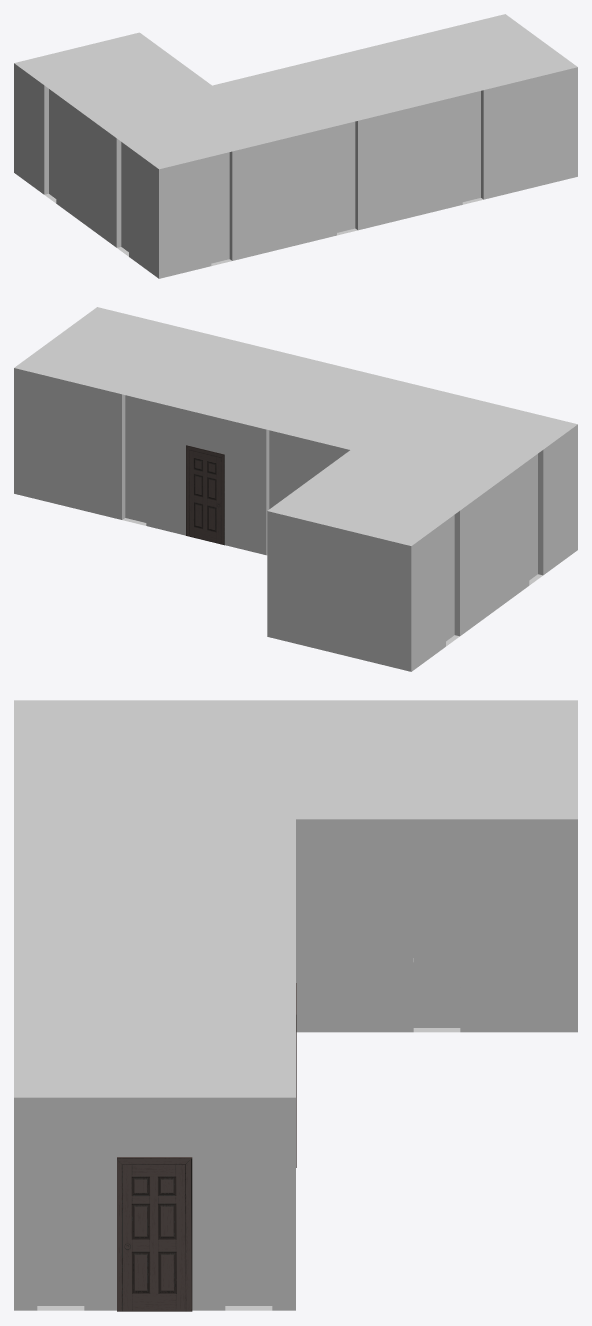
The model's file is Corridor-Room.fbx.
3 renders of one model, top to bottom at view 1: azimuth 30°, elevation 25°; view 2: azimuth 150°, elevation 25°; view 3: azimuth 270°, elevation 25°, orthographic. The views are drawn at different scales.
Visible parts, largest first — view 1: Walls, roof, Woods; view 2: roof, Walls, Woods, Door2.003; view 3: roof, Walls, Woods, Door2.005.
Boxes of the visible parts, x1=… form: Walls: x1=14, y1=18, x2=577, y2=242; roof: x1=14, y1=14, x2=577, y2=169; Woods: x1=14, y1=137, x2=577, y2=278; roof: x1=14, y1=307, x2=577, y2=545; Walls: x1=14, y1=312, x2=577, y2=630; Woods: x1=14, y1=452, x2=577, y2=671; Door2.003: x1=186, y1=445, x2=224, y2=545; roof: x1=14, y1=700, x2=577, y2=1097; Walls: x1=14, y1=700, x2=577, y2=1240; Woods: x1=14, y1=958, x2=577, y2=1310; Door2.005: x1=117, y1=1157, x2=192, y2=1311.
Size of the model in its own units: 1003 by 250 by 600.
3 materials, 3 textured.
